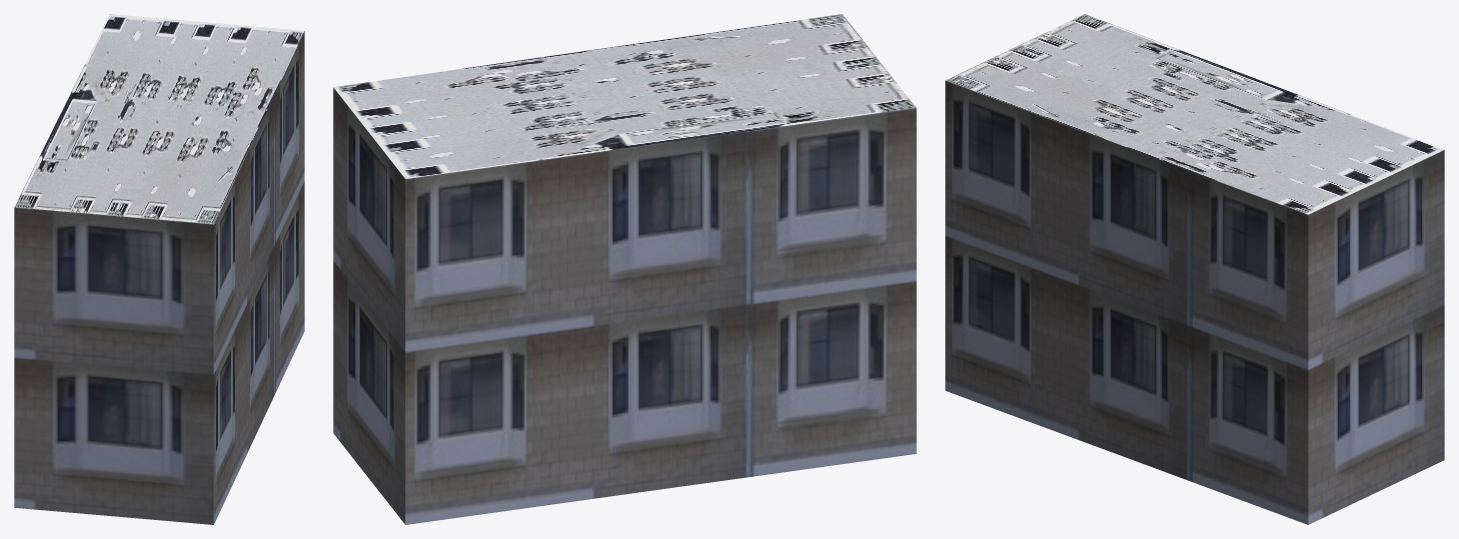
The model's file is ResTex__452.fbx.
The picture shows the model from 3 angles, left to right: view 1: azimuth 30°, elevation 25°; view 2: azimuth 150°, elevation 25°; view 3: azimuth 270°, elevation 25°; orthographic projection. The views are drawn at different scales.
Parts seen in each view (by area): view 1: CityEngineMaterial_3_m, CityEngineMaterial_m; view 2: CityEngineMaterial_3_m, CityEngineMaterial_m; view 3: CityEngineMaterial_3_m, CityEngineMaterial_m.
Boxes of the visible parts, x1,y1,x2,y2 form: CityEngineMaterial_3_m: [14, 31, 304, 524]; CityEngineMaterial_m: [15, 14, 304, 224]; CityEngineMaterial_3_m: [333, 88, 916, 524]; CityEngineMaterial_m: [333, 14, 916, 178]; CityEngineMaterial_3_m: [945, 80, 1444, 524]; CityEngineMaterial_m: [945, 14, 1443, 214].
Size of the model in its own units: 8.33 by 6 by 8.75.
Materials: 2 (2 with a texture image).
